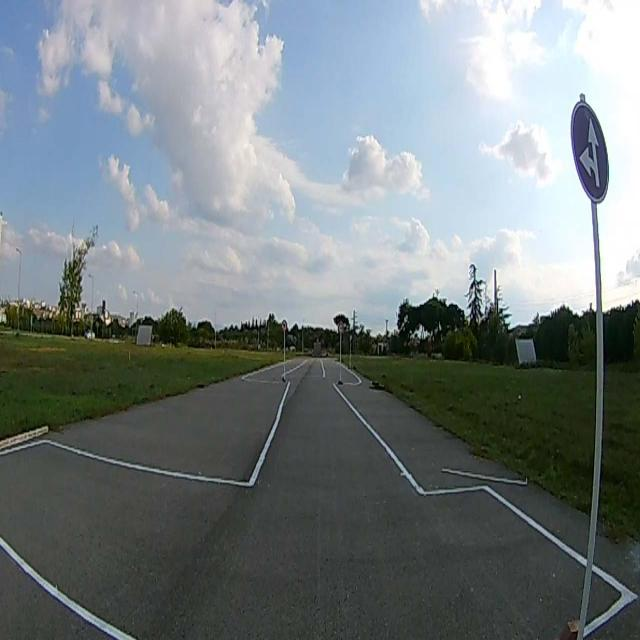ilerisol: (571, 102, 611, 198)
